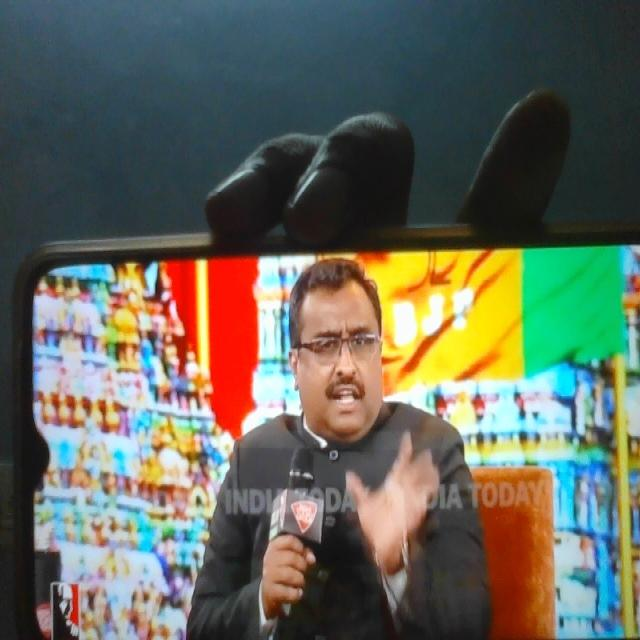fake: (288, 244, 398, 452)
